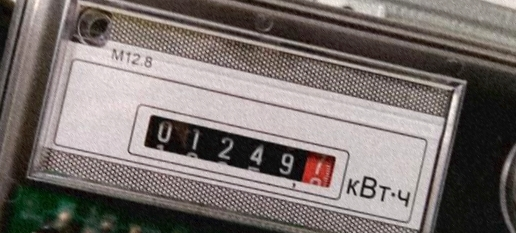0: (155, 117, 175, 145)
1: (186, 124, 204, 152)
2: (215, 134, 235, 162)
4: (248, 140, 267, 167)
7: (311, 150, 329, 178)
9: (275, 149, 296, 177)
screen: (123, 101, 355, 205)
